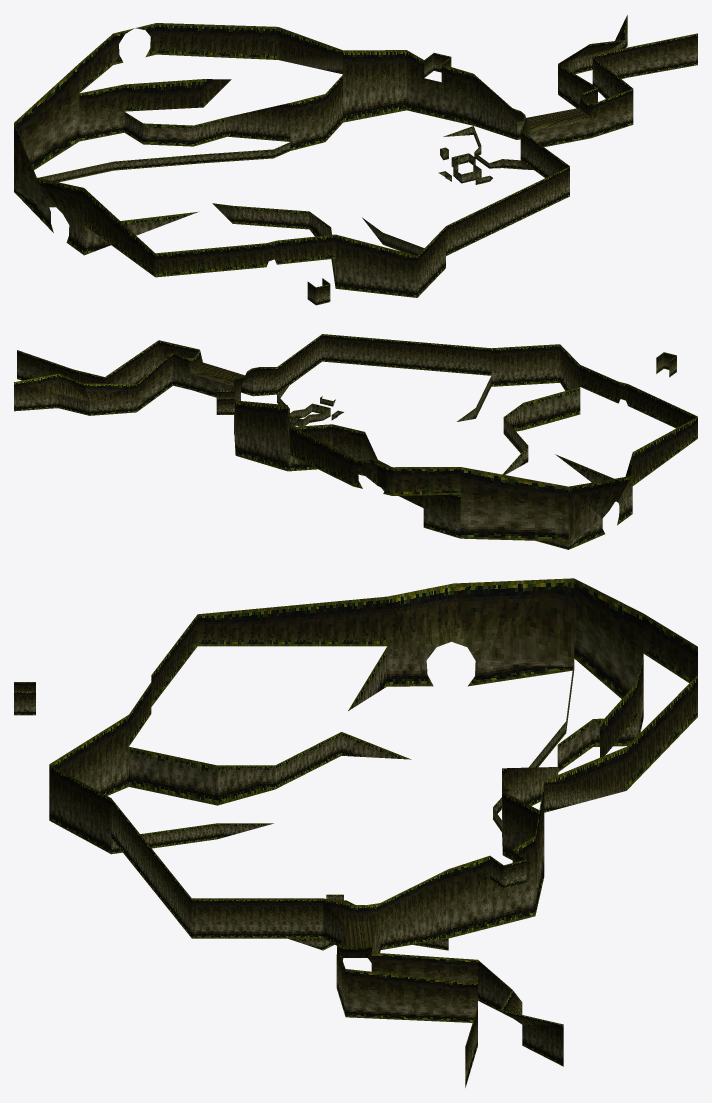
The model's file is kokiri0-walls.obj.
The picture shows the model from 3 angles, top to bottom: view 1: azimuth 30°, elevation 25°; view 2: azimuth 150°, elevation 25°; view 3: azimuth 270°, elevation 25°; orthographic projection. The views are drawn at different scales.
Visible parts, largest first — view 1: kokiri0-walls; view 2: kokiri0-walls; view 3: kokiri0-walls.
Boxes of the visible parts, x1,y1,x2,y2 form: kokiri0-walls: (14, 15, 697, 305); kokiri0-walls: (14, 334, 697, 549); kokiri0-walls: (14, 578, 697, 1087).
Size of the model in its own units: 4631 by 670 by 3088.
Materials: 3 (3 with a texture image).
